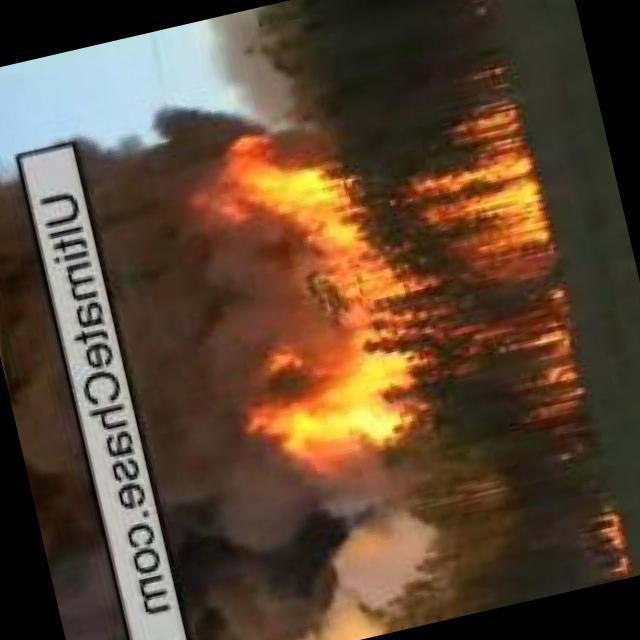Fire: (164, 74, 586, 495), (593, 503, 635, 583)
